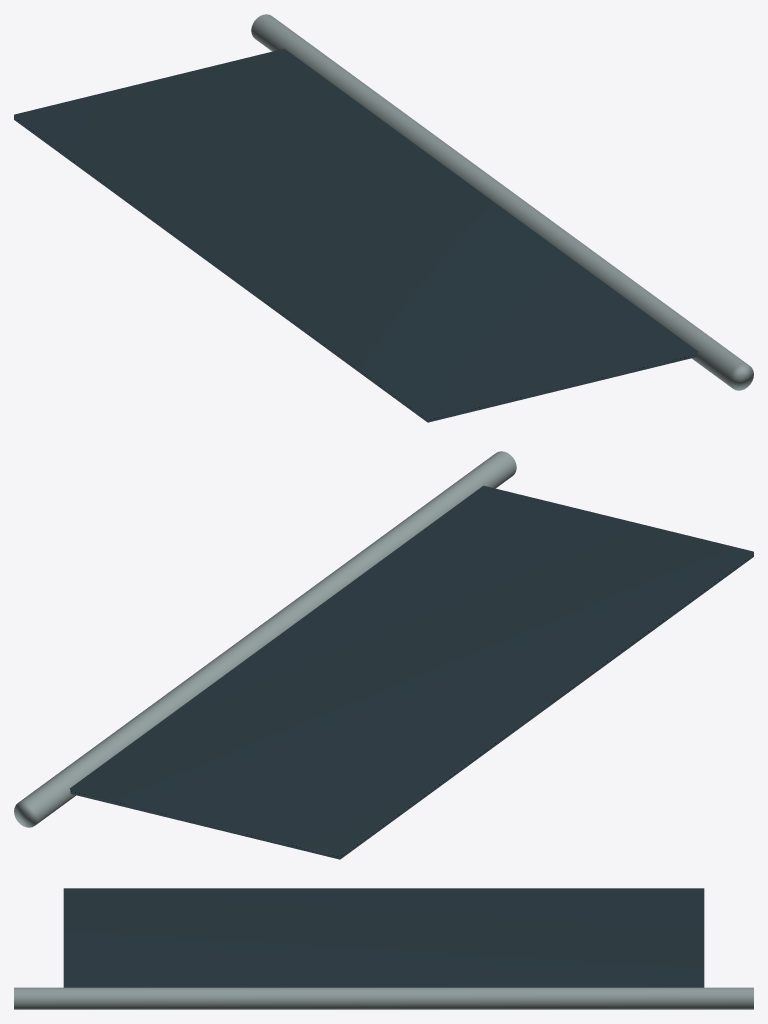
The model's file is buffer_bridge.dae.
3 renders of one model, top to bottom at view 1: azimuth 30°, elevation 25°; view 2: azimuth 150°, elevation 25°; view 3: azimuth 270°, elevation 25°, orthographic. The views are drawn at different scales.
Visible parts, largest first — view 1: plate, hinge_shaft; view 2: plate, hinge_shaft; view 3: plate, hinge_shaft.
Part boxes in pixels (<box>): plate: <box>14,48,698,422</box>; hinge_shaft: <box>251,14,753,390</box>; plate: <box>69,485,753,859</box>; hinge_shaft: <box>14,451,516,827</box>; plate: <box>63,888,704,987</box>; hinge_shaft: <box>14,987,753,1009</box>.
Bounding box in the file's own units: 0.238 × 0.67 × 0.02.
